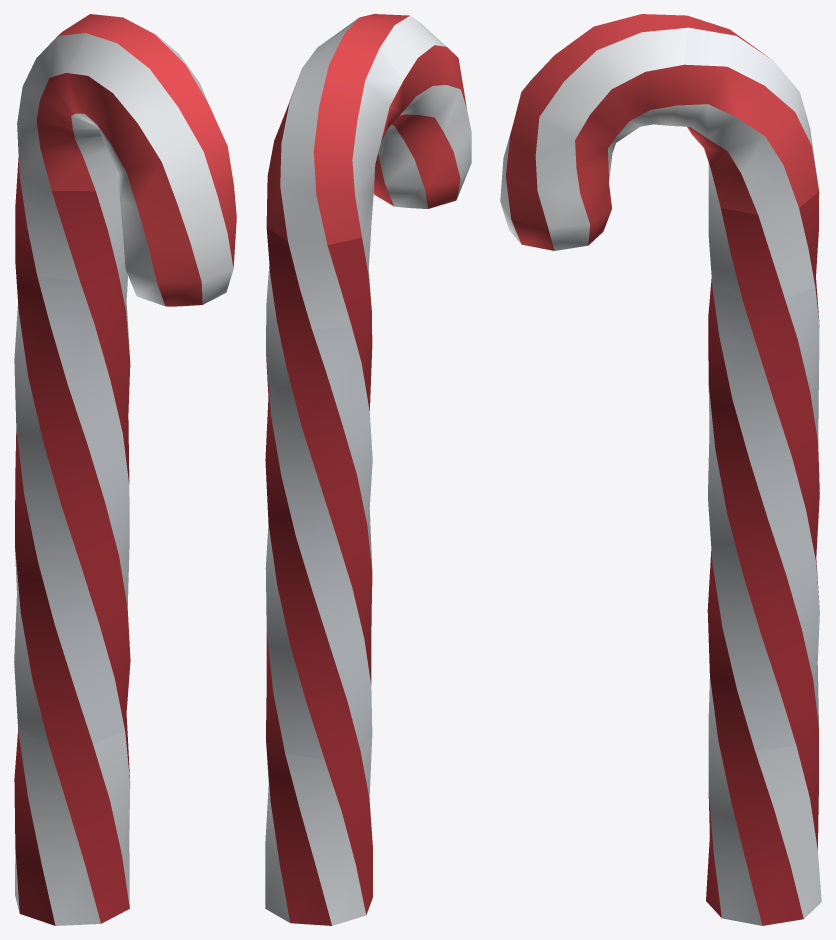
The model's file is bengala_doce_natal_jardim_pacote.glb.
3 renders of one model, left to right at view 1: azimuth 30°, elevation 25°; view 2: azimuth 150°, elevation 25°; view 3: azimuth 270°, elevation 25°, orthographic. The views are drawn at different scales.
Parts seen in each view (by area): view 1: bengala_doce_natal_jardim_pacote; view 2: bengala_doce_natal_jardim_pacote; view 3: bengala_doce_natal_jardim_pacote.
Boxes of the visible parts, left/top/right/bottom form: bengala_doce_natal_jardim_pacote: left=14, top=14, right=236, bottom=925; bengala_doce_natal_jardim_pacote: left=265, top=14, right=471, bottom=925; bengala_doce_natal_jardim_pacote: left=500, top=14, right=821, bottom=925.
Bounding box in the file's own units: 0.1194 × 1 × 0.3314.
1 material, 1 textured.
